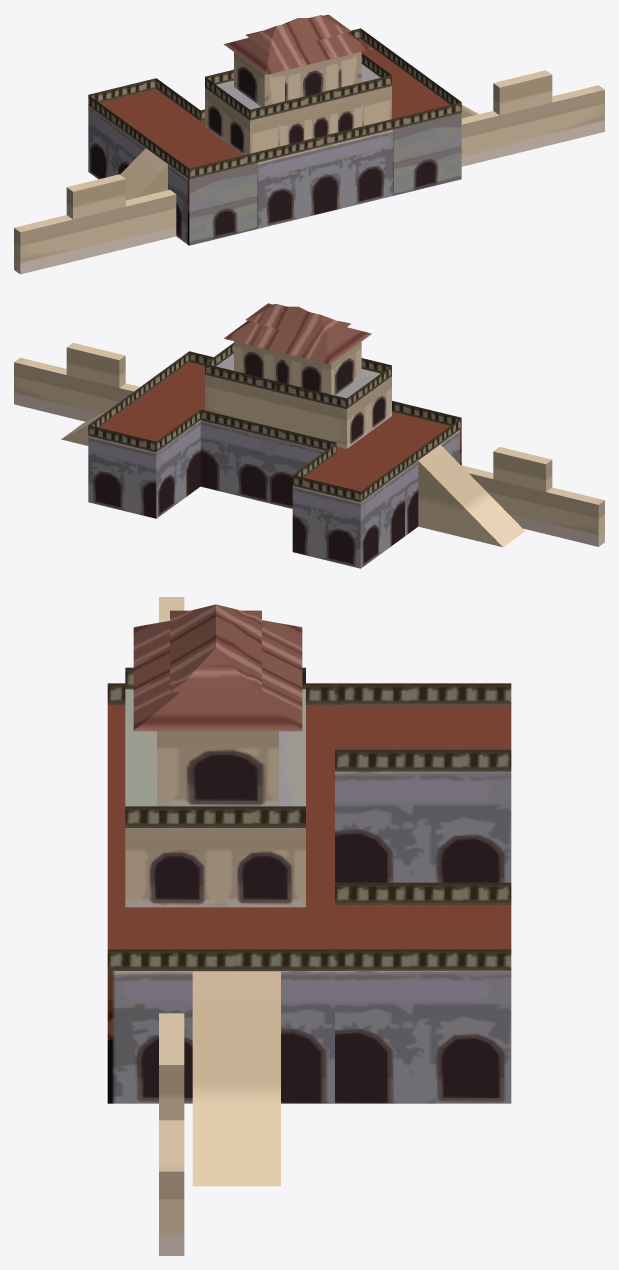
File: SM_Citadel_01.fbx
The picture shows the model from 3 angles, top to bottom: view 1: azimuth 30°, elevation 25°; view 2: azimuth 150°, elevation 25°; view 3: azimuth 270°, elevation 25°; orthographic projection. The views are drawn at different scales.
Visible parts, largest first — view 1: SM_Citadel_01; view 2: SM_Citadel_01; view 3: SM_Citadel_01.
Part boxes in pixels (x1,y1,x2,y2): SM_Citadel_01: [14, 14, 604, 274]; SM_Citadel_01: [14, 303, 604, 568]; SM_Citadel_01: [107, 597, 511, 1255].
Size of the model in its own units: 110 by 31.39 by 32.83.
